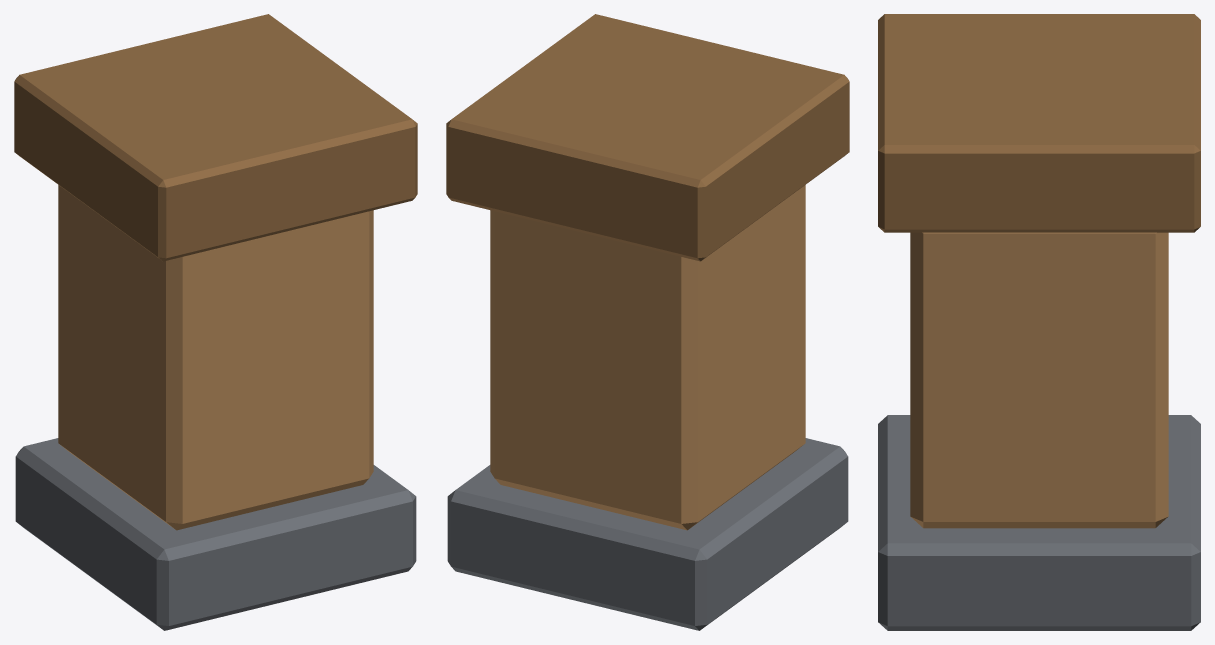
Rendered from pilier_bois_seul.glb.
The picture shows the model from 3 angles, left to right: view 1: azimuth 30°, elevation 25°; view 2: azimuth 150°, elevation 25°; view 3: azimuth 270°, elevation 25°; orthographic projection. The views are drawn at different scales.
Visible parts, largest first — view 1: pilier_bois_seul_planche.002, pilier_bois_seul_planche_sombre.002, pilier_bois_seul_moellon_sombre.002; view 2: pilier_bois_seul_planche.002, pilier_bois_seul_planche_sombre.002, pilier_bois_seul_moellon_sombre.002; view 3: pilier_bois_seul_planche.002, pilier_bois_seul_planche_sombre.002, pilier_bois_seul_moellon_sombre.002.
Boxes of the visible parts, x1,y1,x2,y2 form: pilier_bois_seul_planche.002: (58, 185, 373, 530); pilier_bois_seul_planche_sombre.002: (14, 14, 417, 261); pilier_bois_seul_moellon_sombre.002: (15, 438, 416, 630); pilier_bois_seul_planche.002: (490, 185, 805, 530); pilier_bois_seul_planche_sombre.002: (446, 14, 849, 261); pilier_bois_seul_moellon_sombre.002: (447, 438, 848, 630); pilier_bois_seul_planche.002: (910, 232, 1168, 528); pilier_bois_seul_planche_sombre.002: (878, 14, 1200, 232); pilier_bois_seul_moellon_sombre.002: (878, 415, 1200, 630).
Bounding box in the file's own units: 0.3 × 0.5 × 0.3.
